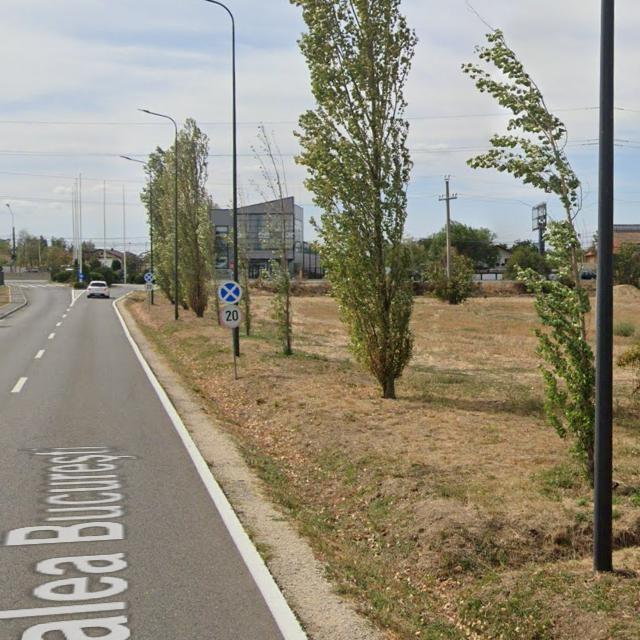forb_speed_over_20: (219, 304, 244, 328)
forb_waiting: (219, 282, 241, 304), (144, 273, 154, 283)
